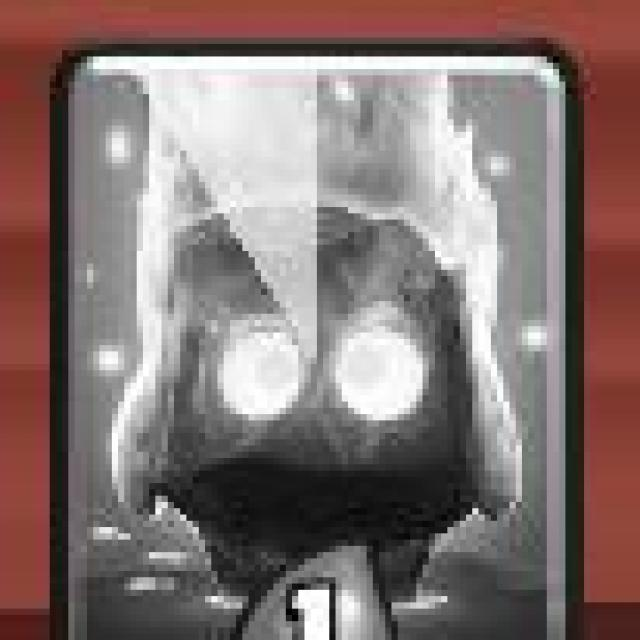Fire_Spirit: (52, 41, 586, 640)
